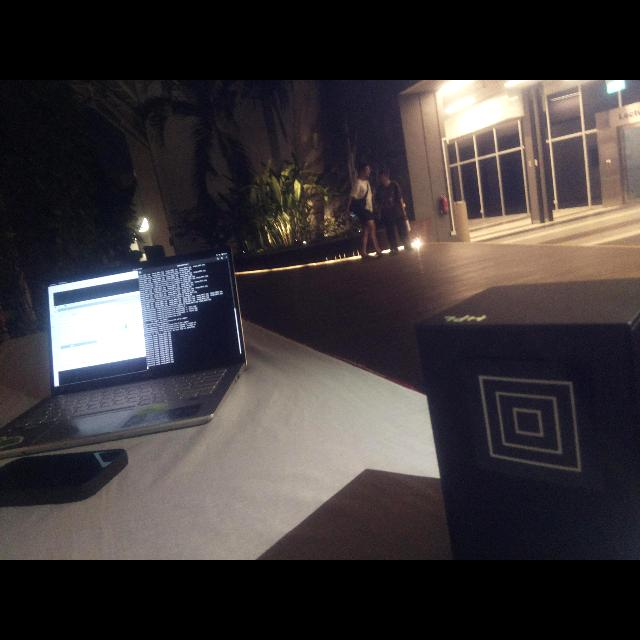BULLSEYE: (478, 376, 581, 472)
